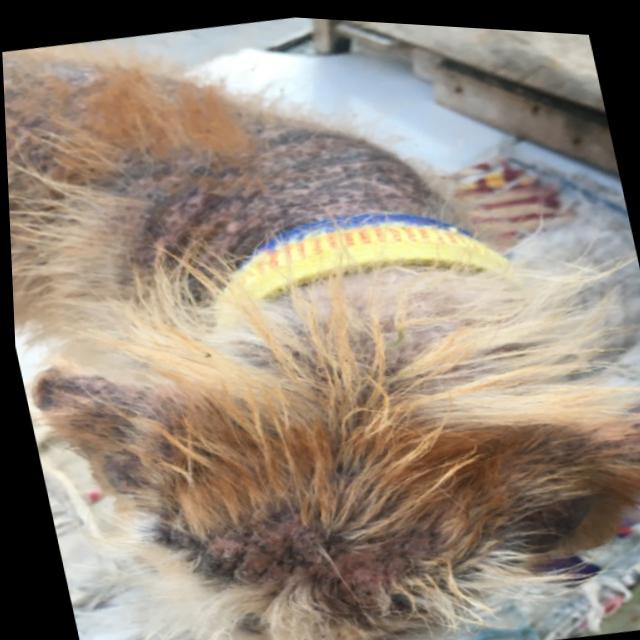demodicosis: (136, 131, 393, 241), (197, 501, 420, 616)
